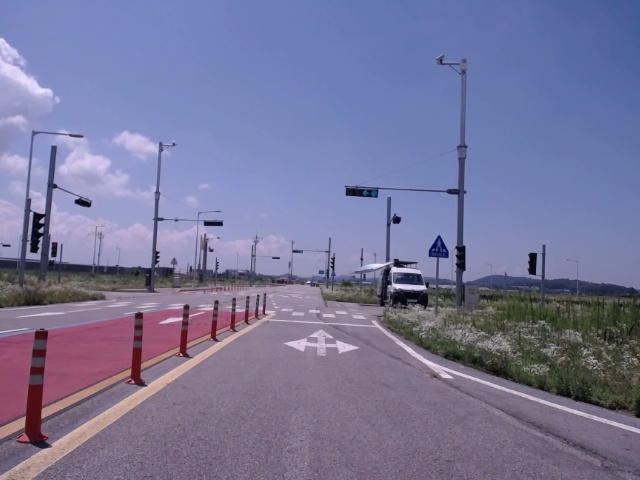all_green_4: (347, 185, 377, 197)
